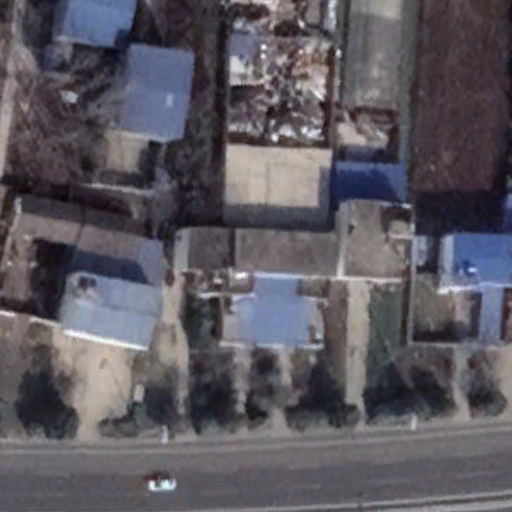msw: (226, 37, 326, 146)
